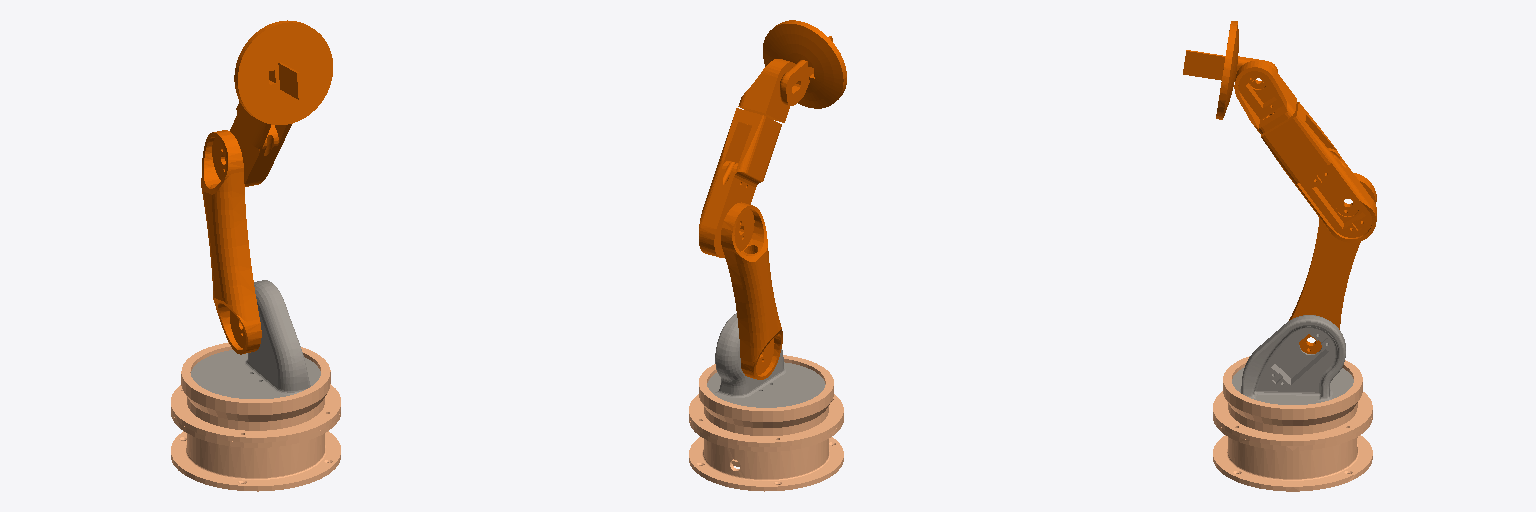
robot.urdf — arm_robot_pkg:
<?xml version="1.0"?>
<!-- arm_robot_pkg.urdf
     ──────────────────
     This is your original URDF with the ros2_control block updated to:
       1. Use the pca9685_arm_robot plugin
       2. Add per-joint calibration params (channel, pulse widths, limits)

     Replace the existing <ros2_control> block in your URDF with this one.
     All kinematic links/joints above are unchanged.
-->
<robot name="arm_robot_pkg">

  <!-- ════════════════════════════════════════════════════════════════════
       ALL YOUR EXISTING LINKS AND JOINTS GO HERE (unchanged)
       — base_link, rotating_base, shoulder_link, Elbow_link,
         wrist_link, gripper — exactly as exported by SolidWorks.
       ════════════════════════════════════════════════════════════════════ -->


  <!-- ════════════════════════════════════════════════════════════════════
       ros2_control block — REPLACE the existing one with this
       ════════════════════════════════════════════════════════════════════ -->

  <link name="world"/>
    <joint name ="world_fixed_base" type="fixed">
      <parent link ="world"/>
      <child link="base_link"/>
      <origin xyz="0.0 0.0 0.0" rpy="0.0 0.0 0.0"/>
    </joint>
    


  <link
    name="base_link">
    <inertial>
      <origin
        xyz="-1.1366E-08 0.025967 -0.00013083"
        rpy="0 0 0" />
      <mass
        value="0.14496" />
      <inertia
        ixx="0.00014447"
        ixy="-5.6249E-12"
        ixz="2.6788E-11"
        iyy="0.00029241"
        iyz="-4.0046E-06"
        izz="0.00019087" />
    </inertial>
    <visual>
      <origin
        xyz="0 0 0"
        rpy="0 0 0" />
      <geometry>
        <mesh
          filename="package://pca9685_arm_robot/meshes/base_link.STL" />
      </geometry>
      <material
        name="">
        <color
          rgba="1 0.7451 0.56078 1" />
      </material>
    </visual>
    <collision>
      <origin
        xyz="0 0 0"
        rpy="0 0 0" />
      <geometry>
        <mesh
          filename="package://pca9685_arm_robot/meshes/base_link.STL" />
      </geometry>
    </collision>
  </link>
  <link
    name="rotating_base">
    <inertial>
      <origin
        xyz="0.0015209 0.019183 0.0072511"
        rpy="0 0 0" />
      <mass
        value="0.072452" />
      <inertia
        ixx="4.957E-05"
        ixy="-6.6445E-06"
        ixz="-3.5E-07"
        iyy="5.8905E-05"
        iyz="-6.2507E-06"
        izz="6.6555E-05" />
    </inertial>
    <visual>
      <origin
        xyz="0 0 0"
        rpy="0 0 0" />
      <geometry>
        <mesh
          filename="package://pca9685_arm_robot/meshes/rotating_base.STL" />
      </geometry>
      <material
        name="">
        <color
          rgba="0.64706 0.61961 0.58824 1" />
      </material>
    </visual>
    <collision>
      <origin
        xyz="0 0 0"
        rpy="0 0 0" />
      <geometry>
        <mesh
          filename="package://pca9685_arm_robot/meshes/rotating_base.STL" />
      </geometry>
    </collision>
  </link>
  <joint
    name="rotating_base_joint"
    type="revolute">
    <origin
      xyz="0 0 0.0534"
      rpy="1.5708 0 1.5083" />
    <parent
      link="base_link" />
    <child
      link="rotating_base" />
    <axis
      xyz="0 1 0" />
    <limit
      lower="-1.046"
      upper="1.046"
      effort="7"
      velocity="0" />
  </joint>
  <link
    name="shoulder_link">
    <inertial>
      <origin
        xyz="-3.278E-08 -0.0068604 0.06"
        rpy="0 0 0" />
      <mass
        value="0.064873" />
      <inertia
        ixx="0.00010616"
        ixy="-4.3906E-11"
        ixz="1.9531E-11"
        iyy="0.00011116"
        iyz="1.5994E-10"
        izz="9.4574E-06" />
    </inertial>
    <visual>
      <origin
        xyz="0 0 0"
        rpy="0 0 0" />
      <geometry>
        <mesh
          filename="package://pca9685_arm_robot/meshes/shoulder_link.STL" />
      </geometry>
      <material
        name="">
        <color
          rgba="0.9098 0.44314 0.031373 1" />
      </material>
    </visual>
    <collision>
      <origin
        xyz="0 0 0"
        rpy="0 0 0" />
      <geometry>
        <mesh
          filename="package://pca9685_arm_robot/meshes/shoulder_link.STL" />
      </geometry>
    </collision>
  </link>
  <joint
    name="shoulder_link_joint"
    type="revolute">
    <origin
      xyz="0.01391 0.04028 0"
      rpy="1.5708 0 2.9049" />
    <parent
      link="rotating_base" />
    <child
      link="shoulder_link" />
    <axis
      xyz="0 1 0" />
    <limit
      lower="-1.046"
      upper="1.046"
      effort="6"
      velocity="0" />
  </joint>
  <link
    name="Elbow_link">
    <inertial>
      <origin
        xyz="0.041368 -3.0653E-05 0.012522"
        rpy="0 0 0" />
      <mass
        value="0.048013" />
      <inertia
        ixx="9.0564E-06"
        ixy="6.9501E-08"
        ixz="9.4144E-08"
        iyy="5.2721E-05"
        iyz="1.6651E-10"
        izz="5.619E-05" />
    </inertial>
    <visual>
      <origin
        xyz="0 0 0"
        rpy="0 0 0" />
      <geometry>
        <mesh
          filename="package://pca9685_arm_robot/meshes/Elbow_link.STL" />
      </geometry>
      <material
        name="">
        <color
          rgba="0.9098 0.44314 0.031373 1" />
      </material>
    </visual>
    <collision>
      <origin
        xyz="0 0 0"
        rpy="0 0 0" />
      <geometry>
        <mesh
          filename="package://pca9685_arm_robot/meshes/Elbow_link.STL" />
      </geometry>
    </collision>
  </link>
  <joint
    name="Elbow_link_joint"
    type="revolute">
    <origin
      xyz="0 0 0.12"
      rpy="-1.5708 -0.72865 0" />
    <parent
      link="shoulder_link" />
    <child
      link="Elbow_link" />
    <axis
      xyz="0 0 1" />
    <limit
      lower="-1.046"
      upper="1.046"
      effort="6"
      velocity="0" />
  </joint>
  <link
    name="wrist_link">
    <inertial>
      <origin
        xyz="0.0050461 0.03312 -0.005357"
        rpy="0 0 0" />
      <mass
        value="0.016368" />
      <inertia
        ixx="3.878E-06"
        ixy="1.1629E-08"
        ixz="-4.0541E-09"
        iyy="2.567E-06"
        iyz="5.8334E-07"
        izz="4.971E-06" />
    </inertial>
    <visual>
      <origin
        xyz="0 0 0"
        rpy="0 0 0" />
      <geometry>
        <mesh
          filename="package://pca9685_arm_robot/meshes/wrist_link.STL" />
      </geometry>
      <material
        name="">
        <color
          rgba="0.9098 0.44314 0.031373 1" />
      </material>
    </visual>
    <collision>
      <origin
        xyz="0 0 0"
        rpy="0 0 0" />
      <geometry>
        <mesh
          filename="package://pca9685_arm_robot/meshes/wrist_link.STL" />
      </geometry>
    </collision>
  </link>
  <joint
    name="wrist_link_joint"
    type="revolute">
    <origin
      xyz="0.076247 0.0053 0.0125"
      rpy="0 -0.0023933 -1.5708" />
    <parent
      link="Elbow_link" />
    <child
      link="wrist_link" />
    <axis
      xyz="0 1 0" />
    <limit
      lower="-1.57"
      upper="1.57"
      effort="5"
      velocity="0" />
  </joint>
  <link
    name="gripper">
    <inertial>
      <origin
        xyz="-0.0159038540803953 0.00424072813829934 0.021244775964588"
        rpy="0 0 0" />
      <mass
        value="0.0404906779655548" />
      <inertia
        ixx="1.4848483571203E-05"
        ixy="-8.10262188577281E-08"
        ixz="-3.36945997006045E-07"
        iyy="1.44737929752106E-05"
        iyz="-4.58219387030767E-07"
        izz="2.24889997572499E-05" />
    </inertial>
    <visual>
      <origin
        xyz="0 0 0"
        rpy="0 0 0" />
      <geometry>
        <mesh
          filename="package://pca9685_arm_robot/meshes/gripper.STL" />
      </geometry>
      <material
        name="">
        <color
          rgba="0.909803921568627 0.443137254901961 0.0313725490196078 1" />
      </material>
    </visual>
    <collision>
      <origin
        xyz="0 0 0"
        rpy="0 0 0" />
      <geometry>
        <mesh
          filename="package://pca9685_arm_robot/meshes/gripper.STL" />
      </geometry>
    </collision>
  </link>
  <joint
    name="gripper_joint"
    type="revolute">
    <origin
      xyz="0.005 0.043353 0"
      rpy="-1.9228 -1.5708 1.1777" />
    <parent
      link="wrist_link" />
    <child
      link="gripper" />
    <axis
      xyz="1 0 0" />
    <limit
      lower="-1.57"
      upper="1.57"
      effort="5"
      velocity="0" />
  </joint>


  <ros2_control name="arm_robot_pkg" type="system">

    <hardware>
      <plugin>mock_components/GenericSystem</plugin>
      <!-- I²C bus 7 = Pin 3/5 on Jetson AGX Orin 40-pin header -->
      <param name="i2c_bus">7</param>
      <!-- PCA9685 default address (A0-A5 all unsoldered) -->
      <param name="i2c_address">0x40</param>
      <!-- Standard hobby servo PWM frequency -->
      <param name="pwm_frequency">50</param>
    </hardware>

    <!-- ── base_joint  (rotating_base_joint  ±1.046 rad) ──────────────
         Maps to PCA9685 channel 2.
         URDF: 0 rad = robot home = servo centre (1500 µs)
         Run calibrate_servos.py to find your servo's actual min/max.        -->
    <joint name="rotating_base_joint">
      <param name="channel">2</param>
      <param name="min_pulse_us">280</param>    <!-- servo at -1.046 rad -->
      <param name="max_pulse_us">2540</param>   <!-- servo at +1.046 rad -->
      <param name="urdf_limit_rad">1.046</param><!-- must match URDF limit -->
      <param name="home_angle_deg">0</param>    <!-- 0 deg = 0 rad = neutral -->
      <command_interface name="position">
        <param name="min">-1.046</param>
        <param name="max"> 1.046</param>
      </command_interface>
      <state_interface name="position"/>
    </joint>

    <!-- ── shoulder_joint  (shoulder_link_joint  ±1.046 rad) ──────────
         Maps to PCA9685 channel 0.                                          -->
    <joint name="shoulder_link_joint">
      <param name="channel">0</param>
      <param name="min_pulse_us">1358</param>
      <param name="max_pulse_us">2058</param>
      <param name="urdf_limit_rad">1.046</param>
      <param name="home_angle_deg">0</param>
      <command_interface name="position">
        <param name="min">-1.046</param>
        <param name="max"> 1.046</param>
      </command_interface>
      <state_interface name="position"/>
    </joint>

    <!-- ── elbow_joint  (Elbow_link_joint  ±1.046 rad) ────────────────
         Maps to PCA9685 channel 1.                                          -->
    <joint name="Elbow_link_joint">
      <param name="channel">1</param>
      <param name="min_pulse_us">370</param>
      <param name="max_pulse_us">2630</param>
      <param name="urdf_limit_rad">1.046</param>
      <param name="home_angle_deg">0</param>
      <command_interface name="position">
        <param name="min">-1.046</param>
        <param name="max"> 1.046</param>
      </command_interface>
      <state_interface name="position"/>
    </joint>

    <!-- ── wrist_joint  (wrist_link_joint  ±1.57 rad) ─────────────────
         Maps to PCA9685 channel 3.                                          -->
    <joint name="wrist_link_joint">
      <param name="channel">3</param>
      <param name="min_pulse_us">530</param>
      <param name="max_pulse_us">2310</param>
      <param name="urdf_limit_rad">1.570</param>
      <param name="home_angle_deg">0</param>
      <command_interface name="position">
        <param name="min">-1.57</param>
        <param name="max"> 1.57</param>
      </command_interface>
      <state_interface name="position"/>
    </joint>

    <!-- ── gripper_joint  (±1.57 rad) ─────────────────────────────────
         Maps to PCA9685 channel 4.
         home_angle_deg = 0 = gripper fully open at neutral.
         Change to a positive value if your gripper rests closed.            -->
    <joint name="gripper_joint">
      <param name="channel">4</param>
      <param name="min_pulse_us">620</param>
      <param name="max_pulse_us">2760</param>
      <param name="urdf_limit_rad">1.570</param>
      <param name="home_angle_deg">0</param>
      <command_interface name="position">
        <param name="min">-1.57</param>
        <param name="max"> 1.57</param>
      </command_interface>
      <state_interface name="position"/>
    </joint>

  </ros2_control>

</robot>

--- Facts derived from the render (not from the file) ---
The picture shows the robot from 3 angles, left to right: view 1: azimuth 30°, elevation 25°; view 2: azimuth 150°, elevation 25°; view 3: azimuth 270°, elevation 25°; orthographic projection.
Model arm_robot_pkg with 7 links and 6 joints (5 revolute, 1 fixed), rooted at world, posed all joints at 0.
Links seen in each view (by area): view 1: base_link, shoulder_link, gripper, rotating_base, Elbow_link; view 2: base_link, shoulder_link, Elbow_link, gripper, rotating_base, wrist_link; view 3: base_link, rotating_base, Elbow_link, shoulder_link, wrist_link, gripper.
Link boxes in pixels (x1,y1,x2,y2): base_link: [171, 342, 340, 491]; shoulder_link: [201, 130, 261, 354]; gripper: [234, 20, 332, 124]; rotating_base: [191, 280, 320, 398]; Elbow_link: [230, 101, 291, 186]; base_link: [689, 355, 843, 491]; shoulder_link: [721, 202, 782, 379]; Elbow_link: [699, 108, 781, 257]; gripper: [763, 20, 846, 108]; rotating_base: [707, 313, 825, 407]; wrist_link: [738, 59, 795, 122]; base_link: [1213, 356, 1372, 491]; rotating_base: [1232, 315, 1353, 404]; Elbow_link: [1261, 102, 1376, 242]; shoulder_link: [1289, 173, 1376, 353]; wrist_link: [1234, 60, 1296, 133]; gripper: [1183, 21, 1277, 119].
Size in the robot's own frame: 0.1213 by 0.1474 by 0.3585 metres.
6 mesh visuals loaded from 6 distinct referenced files (6 binary STL).
